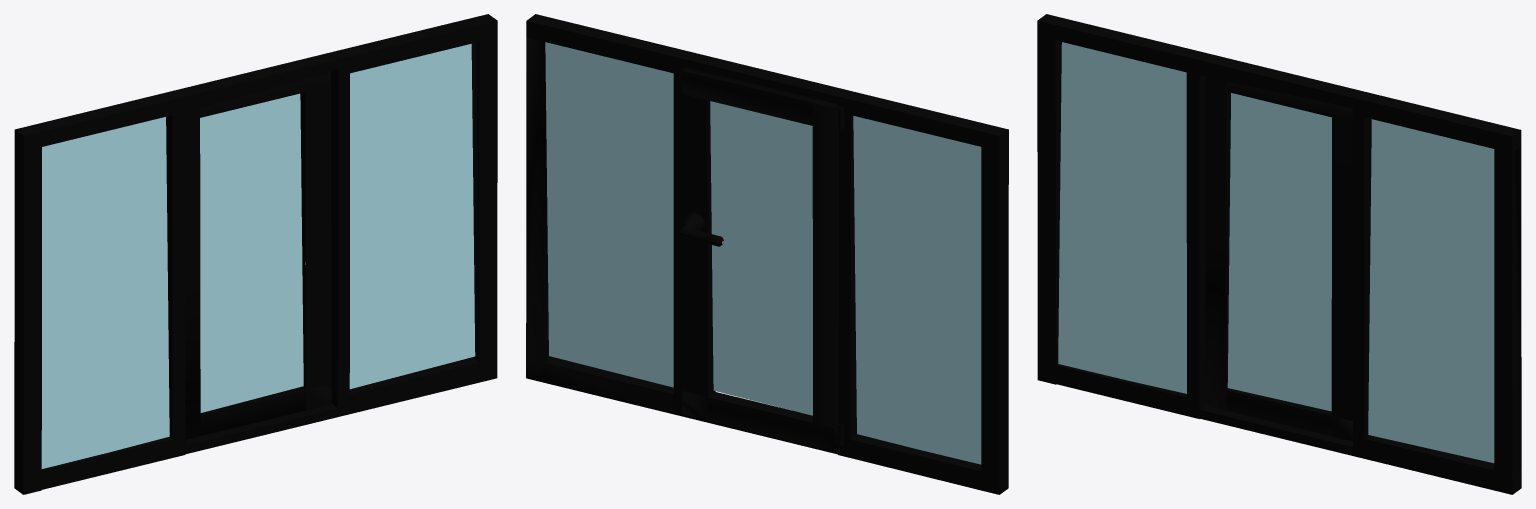
File: raampkejonguh.fbx
The picture shows the model from 3 angles, left to right: view 1: azimuth 30°, elevation 25°; view 2: azimuth 150°, elevation 25°; view 3: azimuth 330°, elevation 25°; orthographic projection.
Parts seen in each view (by area): view 1: Plane, Plane_4, Plane_3, Plane_2, Plane_1; view 2: Plane, Plane_4, Plane_3, Plane_2, Plane_1, Tube; view 3: Plane, Plane_4, Plane_3, Plane_2, Plane_1.
Boxes of the visible parts, x1,y1,x2,y2 form: Plane: [14, 14, 497, 494]; Plane_4: [41, 117, 169, 468]; Plane_3: [349, 44, 475, 389]; Plane_2: [200, 93, 305, 412]; Plane_1: [185, 72, 331, 439]; Plane: [526, 14, 1008, 494]; Plane_4: [853, 115, 981, 464]; Plane_3: [545, 42, 673, 387]; Plane_2: [710, 101, 812, 415]; Plane_1: [682, 67, 838, 451]; Tube: [679, 213, 723, 246]; Plane: [1037, 14, 1521, 494]; Plane_4: [1058, 42, 1186, 393]; Plane_3: [1368, 119, 1494, 463]; Plane_2: [1227, 93, 1331, 411]; Plane_1: [1205, 77, 1352, 441].
Size of the model in its own units: 740 by 536 by 77.83.
